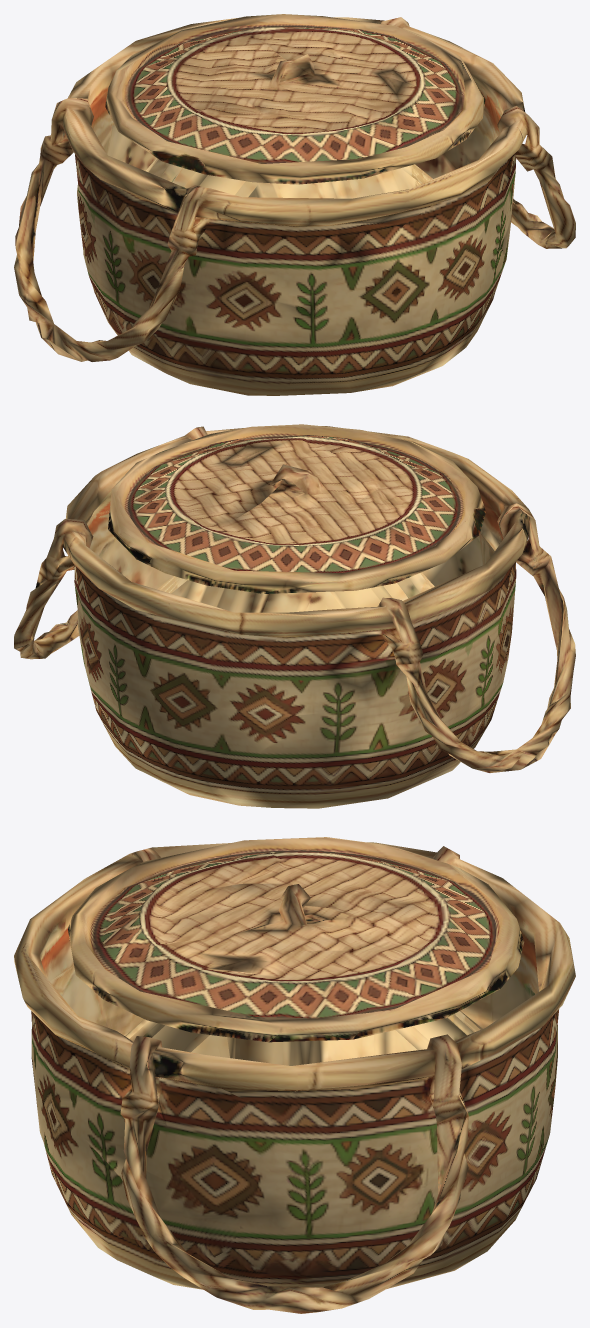
File: Meshy_AI_Geometric_Woven_Baske_0722081510_texture.glb
3 views of the same model, one above another, from view 1: azimuth 30°, elevation 25°; view 2: azimuth 150°, elevation 25°; view 3: azimuth 270°, elevation 25° (orthographic). The views are drawn at different scales.
Parts seen in each view (by area): view 1: mesh_node; view 2: mesh_node; view 3: mesh_node.
Boxes of the visible parts, left/top/right/bottom form: mesh_node: left=14, top=14, right=575, bottom=395; mesh_node: left=14, top=424, right=575, bottom=808; mesh_node: left=14, top=837, right=575, bottom=1313.
Size of the model in its own units: 1.89 by 0.9833 by 1.55.
Materials: 1 (1 with a texture image).
